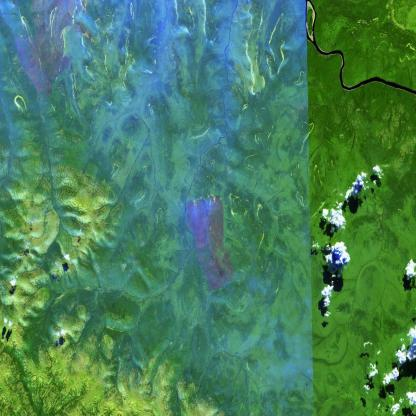fire: (183, 187, 227, 222)
